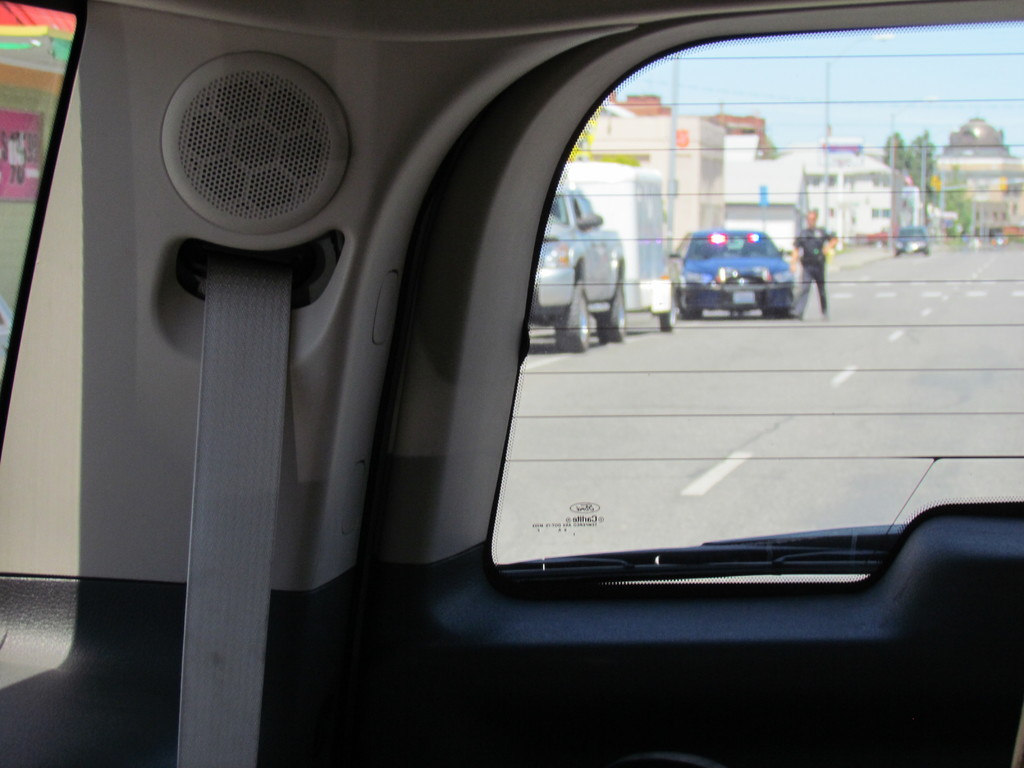Car: (0, 5, 1020, 767), (529, 183, 632, 355), (660, 224, 795, 316), (894, 229, 927, 258)
